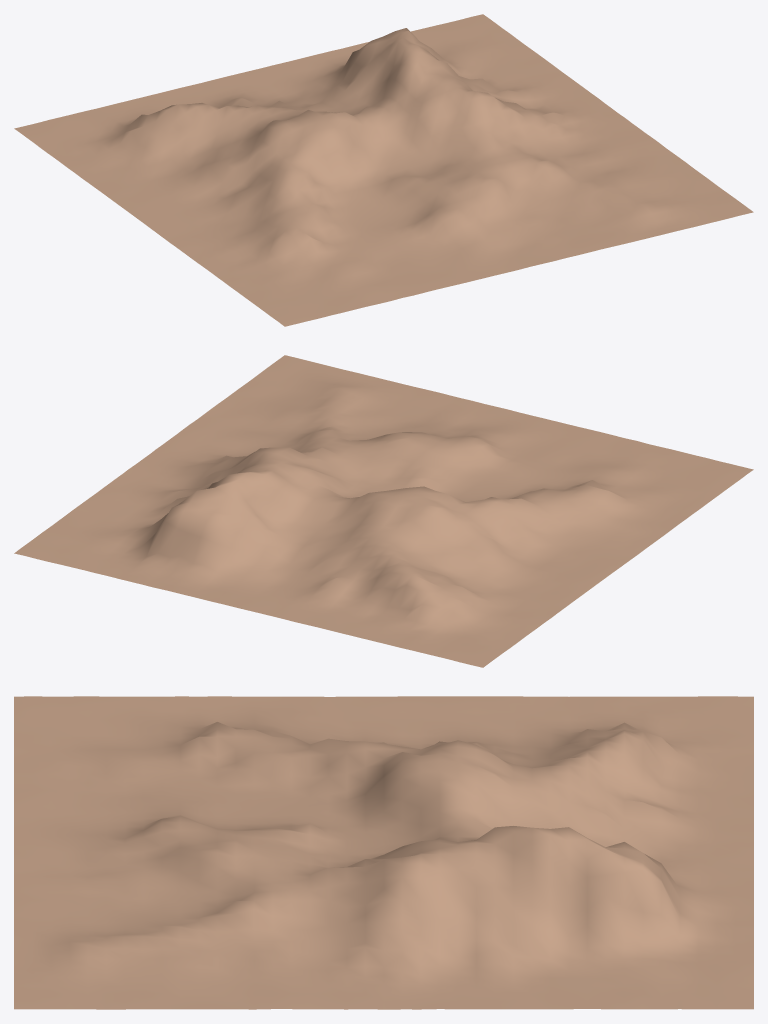
The picture shows the model from 3 angles, top to bottom: view 1: azimuth 30°, elevation 25°; view 2: azimuth 150°, elevation 25°; view 3: azimuth 270°, elevation 25°; orthographic projection. The views are drawn at different scales.
Parts seen in each view (by area): view 1: DM_lod_1; view 2: DM_lod_1; view 3: DM_lod_1.
Part boxes in pixels (left/top/right/bottom): DM_lod_1: left=14, top=14, right=753, bottom=326; DM_lod_1: left=14, top=355, right=753, bottom=667; DM_lod_1: left=14, top=696, right=753, bottom=1009.
Bounding box in the file's own units: 300 × 36.35 × 300.
